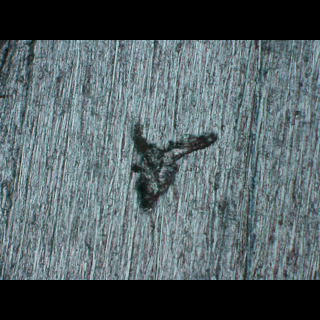d: (126, 118, 222, 214)
